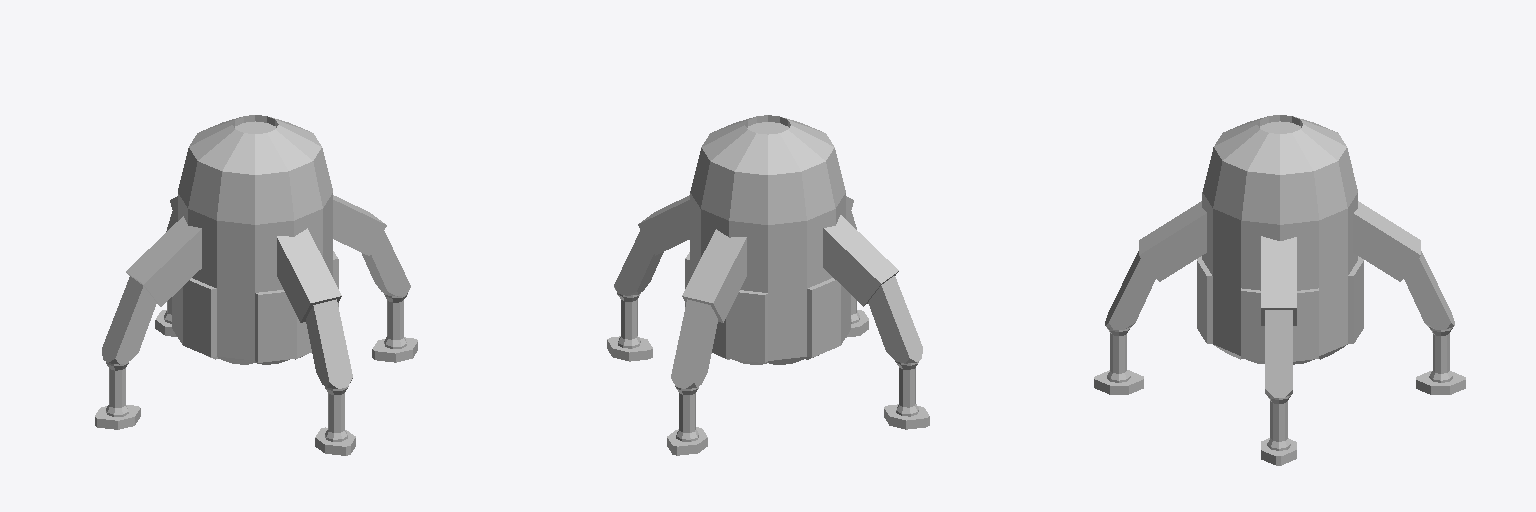
The model's file is mercury_lander.obj.
The picture shows the model from 3 angles: view 1: azimuth 30°, elevation 25°; view 2: azimuth 150°, elevation 25°; view 3: azimuth 270°, elevation 25°; orthographic projection.
Visible parts, largest first — view 1: ChamferCyl001, OneLeg, FourLeg, ThreeLeg, TwoLeg; view 2: ChamferCyl001, OneLeg, TwoLeg, ThreeLeg, FourLeg; view 3: ChamferCyl001, FourLeg, TwoLeg, ThreeLeg.
Boxes of the visible parts, box(x1,y1,x2,y2) form: ChamferCyl001: box(172, 115, 338, 364); OneLeg: box(95, 216, 201, 429); FourLeg: box(277, 228, 355, 455); ThreeLeg: box(333, 195, 417, 362); TwoLeg: box(155, 196, 177, 336); ChamferCyl001: box(685, 115, 850, 364); OneLeg: box(823, 215, 929, 429); TwoLeg: box(667, 229, 746, 455); ThreeLeg: box(607, 195, 689, 361); FourLeg: box(846, 196, 868, 337); ChamferCyl001: box(1197, 115, 1363, 364); FourLeg: box(1094, 201, 1206, 394); TwoLeg: box(1353, 201, 1465, 394); ThreeLeg: box(1261, 236, 1296, 465).
Size of the model in its own units: 24.28 by 19.01 by 24.34.